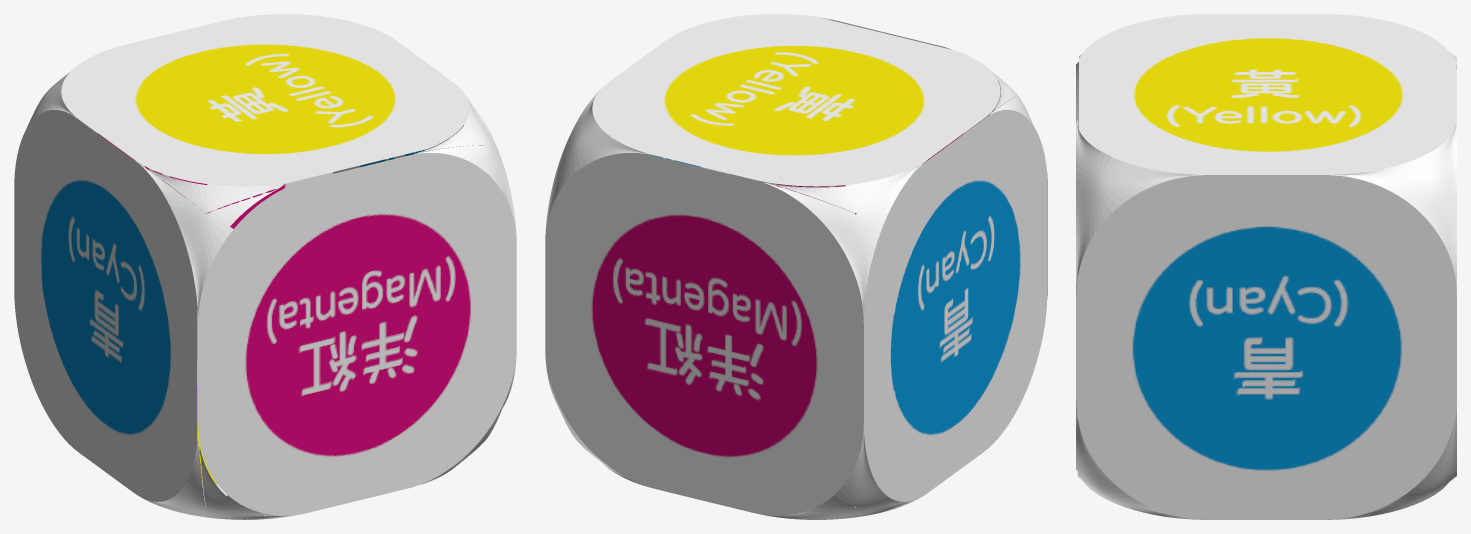
File: -三原色骰.obj
The picture shows the model from 3 angles, left to right: view 1: azimuth 30°, elevation 25°; view 2: azimuth 150°, elevation 25°; view 3: azimuth 270°, elevation 25°; orthographic projection. The views are drawn at different scales.
Visible parts, largest first — view 1: Cube; view 2: Cube; view 3: Cube.
Part boxes in pixels (left/top/right/bottom): Cube: left=14, top=14, right=516, bottom=519; Cube: left=545, top=14, right=1047, bottom=519; Cube: left=1076, top=14, right=1456, bottom=519.
Bounding box in the file's own units: 2 × 2 × 2.
1 material, 1 textured.
